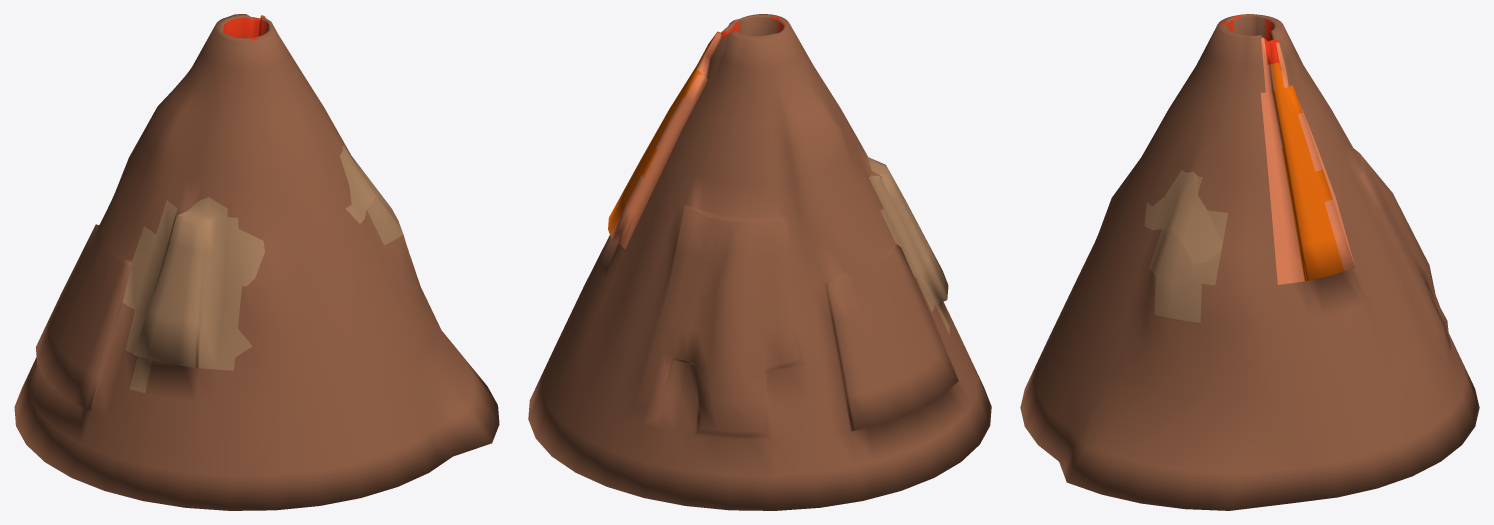
Rendered from volcano.fbx.
The picture shows the model from 3 angles, left to right: view 1: azimuth 30°, elevation 25°; view 2: azimuth 150°, elevation 25°; view 3: azimuth 270°, elevation 25°; orthographic projection.
Visible parts, largest first — view 1: Volcano; view 2: Volcano; view 3: Volcano.
Boxes of the visible parts, box(x1,y1,x2,y2) form: Volcano: box(14, 14, 499, 510); Volcano: box(528, 14, 991, 510); Volcano: box(1020, 14, 1479, 510).
Bounding box in the file's own units: 4.49 × 4.35 × 4.
